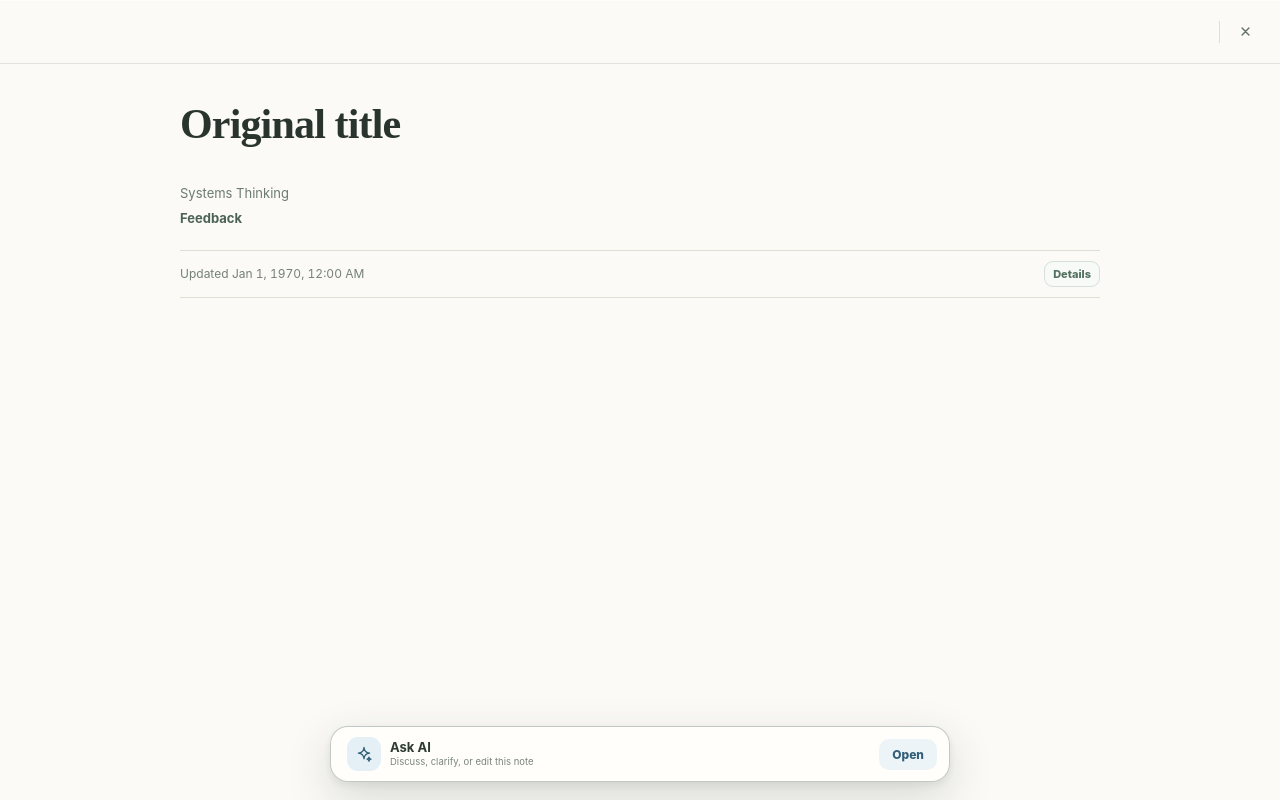
Test: an active note is immediately editable and autosaves its title
The image size is (1280, 800).
Replace the text in the text box named "Reading note title" with "A better title" at coordinates (640, 126), box [148,100,1132,152]
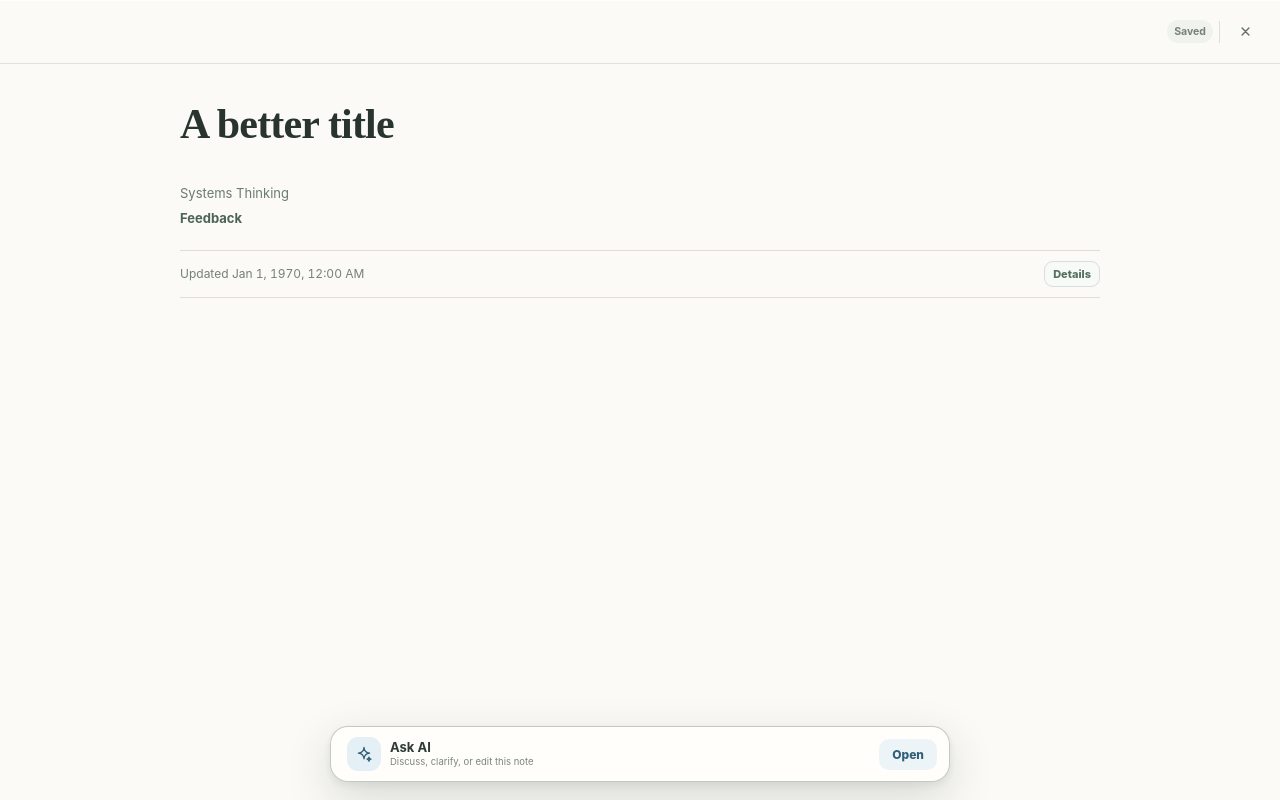
Expected: the message reads "Saved", [1174,25,1206,38]
